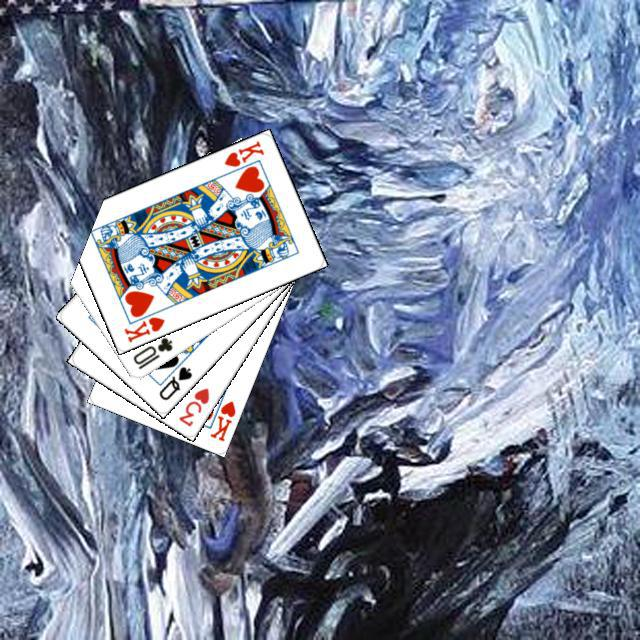10c: (128, 332, 174, 371)
3h: (174, 383, 211, 428)
Kh: (119, 303, 166, 344), (202, 388, 237, 443), (219, 136, 266, 169)
Qs: (154, 361, 194, 402)
